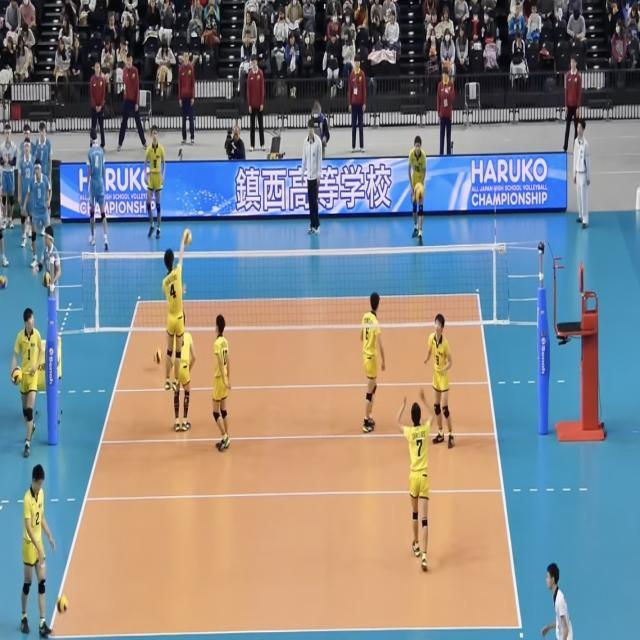spike: (157, 225, 190, 396)
